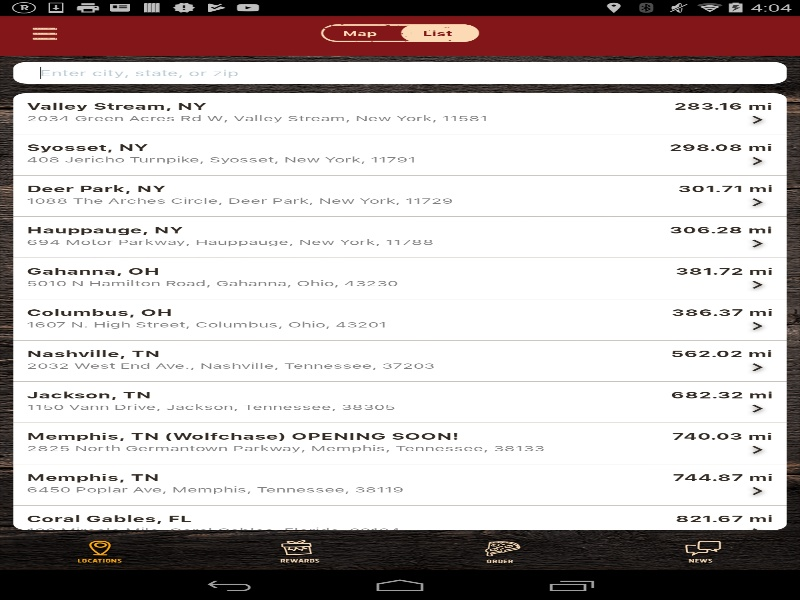Button: (320, 23, 400, 42), (400, 23, 480, 42)
Input: (13, 61, 786, 83)
